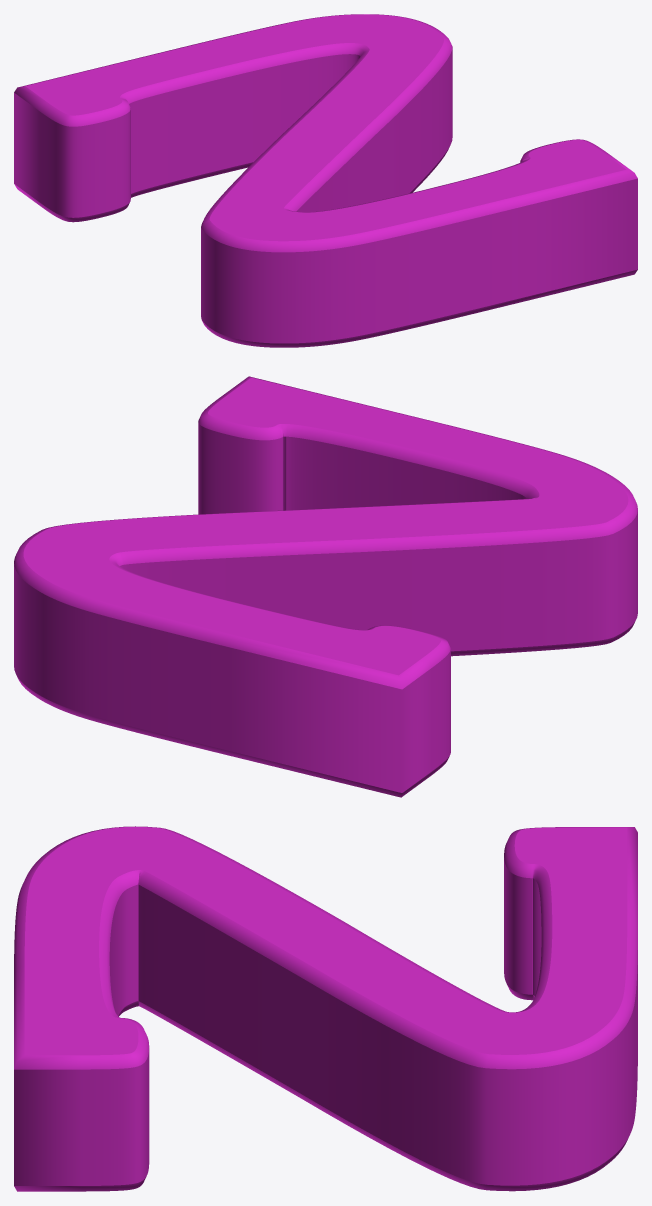
The model's file is Letter_z_CoolFont.fbx.
3 renders of one model, top to bottom at view 1: azimuth 30°, elevation 25°; view 2: azimuth 150°, elevation 25°; view 3: azimuth 270°, elevation 25°, orthographic. The views are drawn at different scales.
Visible parts, largest first — view 1: Letter_z; view 2: Letter_z; view 3: Letter_z.
Boxes of the visible parts, <box> form: Letter_z: <box>14,14,637,347</box>; Letter_z: <box>14,376,637,797</box>; Letter_z: <box>14,826,637,1191</box>.
Size of the model in its own units: 0.5249 by 0.14 by 0.5828.
